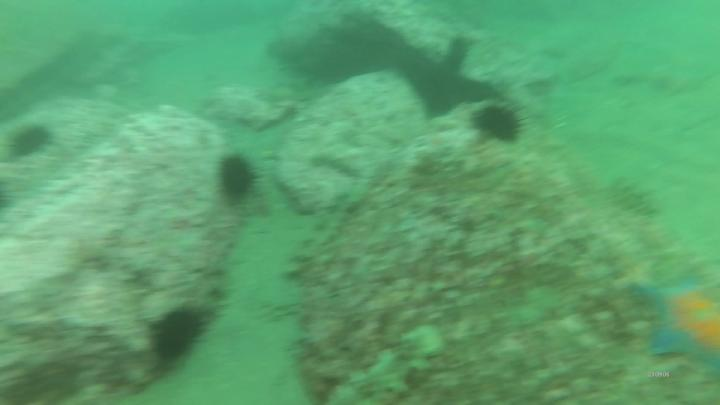echinus: (145, 303, 219, 375), (214, 150, 267, 207), (472, 98, 533, 147), (8, 124, 50, 158)
holothurian: (333, 323, 445, 405)
starfish: (635, 268, 720, 371)
